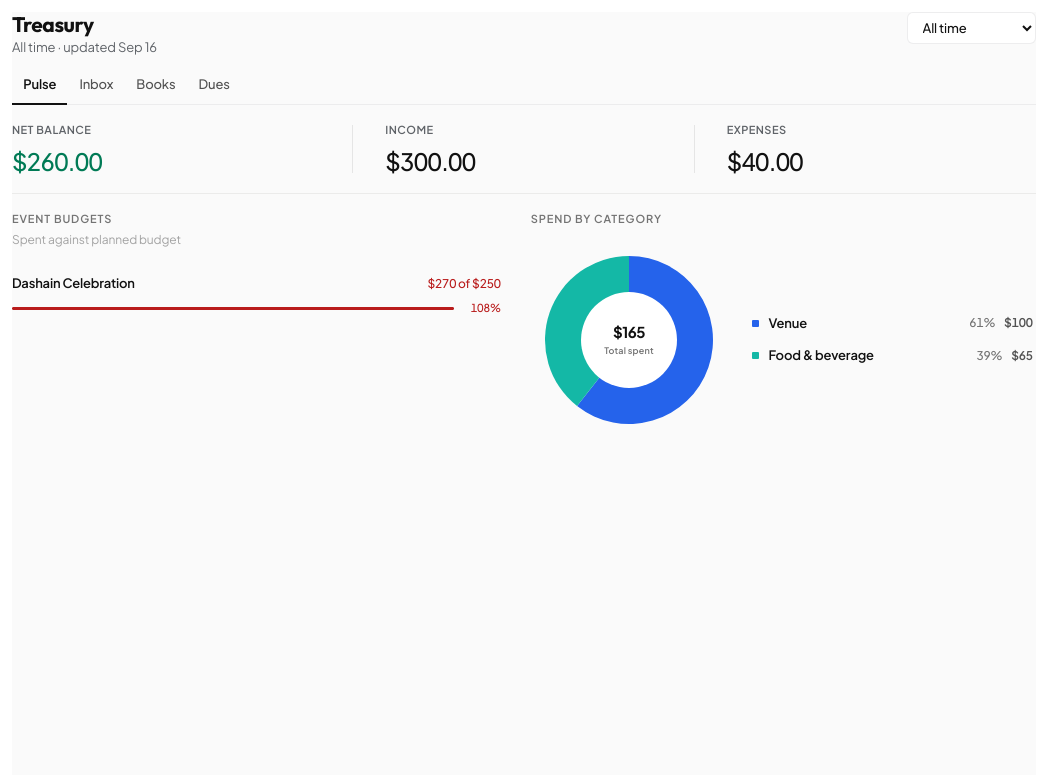
FinancePage › shows treasury pulse and tabs for treasurer
This screenshot has width=1048, height=775.
Expected: the heading "Treasury" is shown, [12,11,94,37]
Expected: the text "All time · updated Sep 16" is shown, [12,39,157,57]
Click the tab "Books" at coordinates (156, 86), box [125,67,187,105]
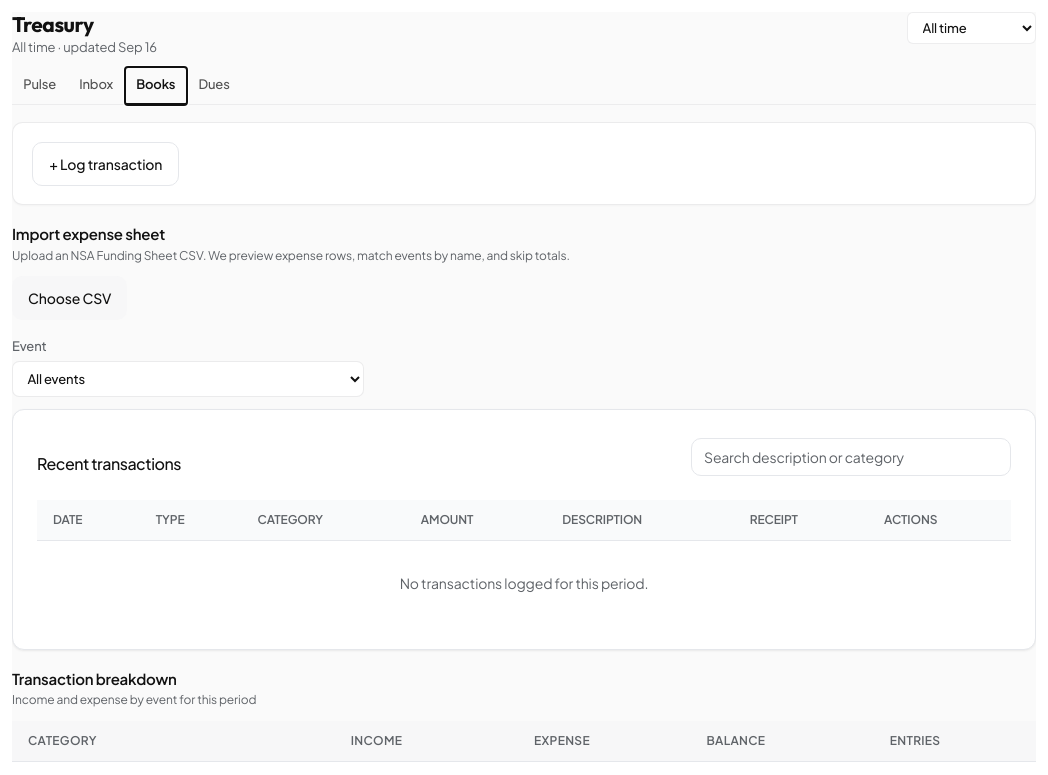
Expected: the button "+ Log transaction" is shown, [32,142,179,186]
Expected: the table with test id "finance-entry-list" is shown, [37,500,1011,625]
Expected: the dropdown named "Filter by event" is shown, [12,361,364,397]
